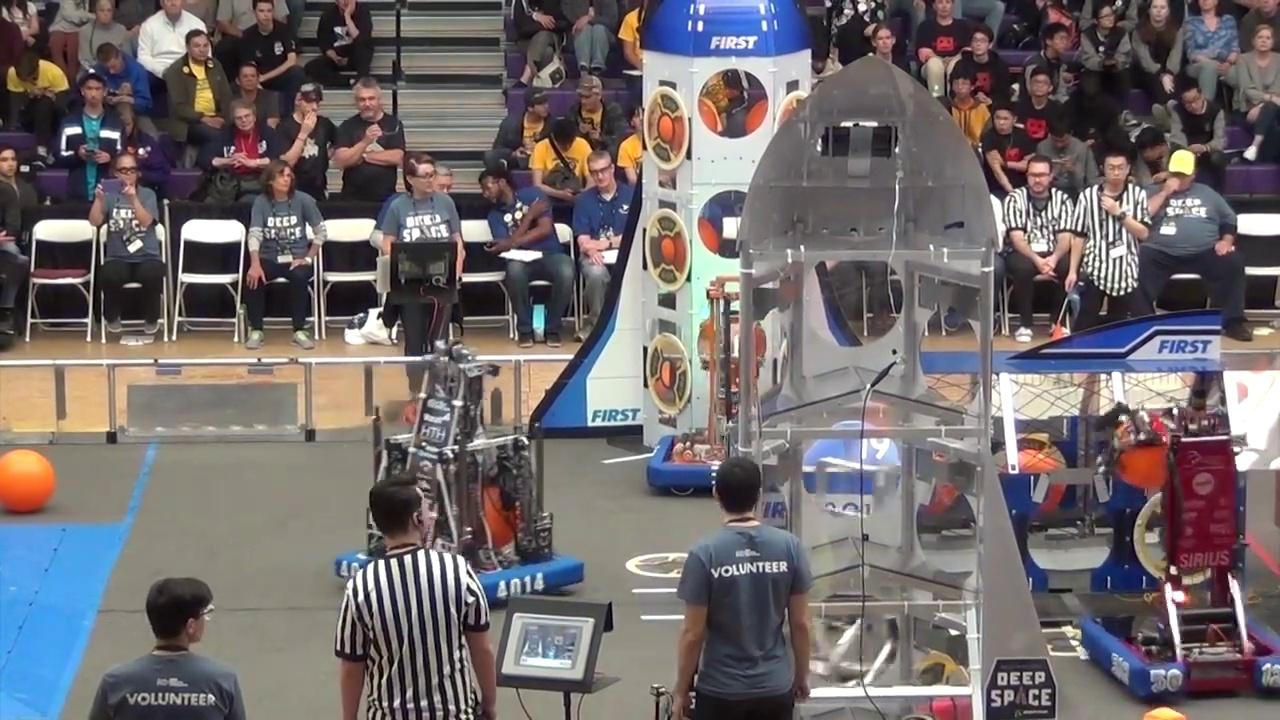robot: (1076, 403, 1280, 704), (416, 343, 583, 610), (646, 277, 786, 497)
